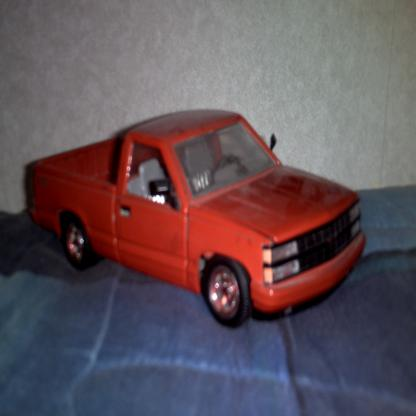Truck: (28, 108, 366, 330)
